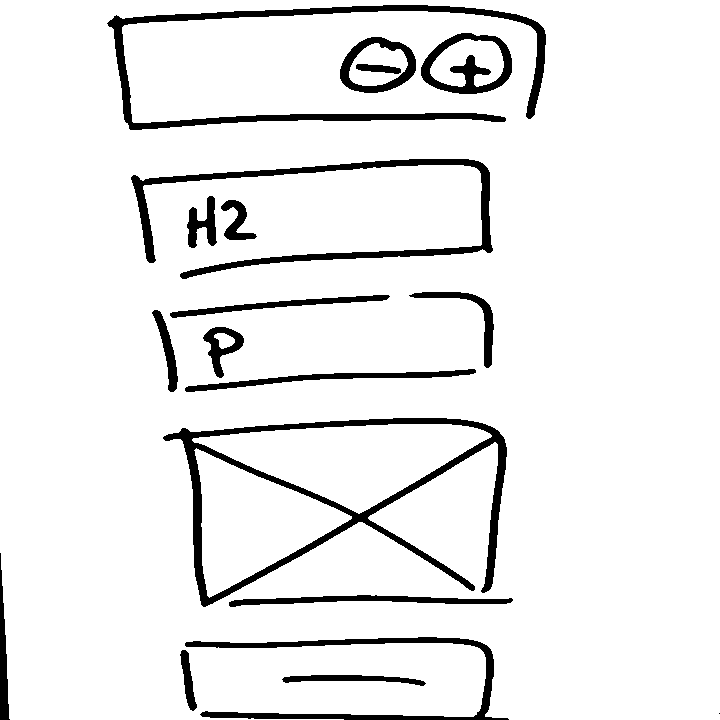button: (174, 631, 513, 720)
heading2: (111, 152, 509, 278)
inline stepper bar: (102, 5, 555, 138)
paragraph: (146, 292, 500, 397)
picture: (162, 416, 524, 610)
